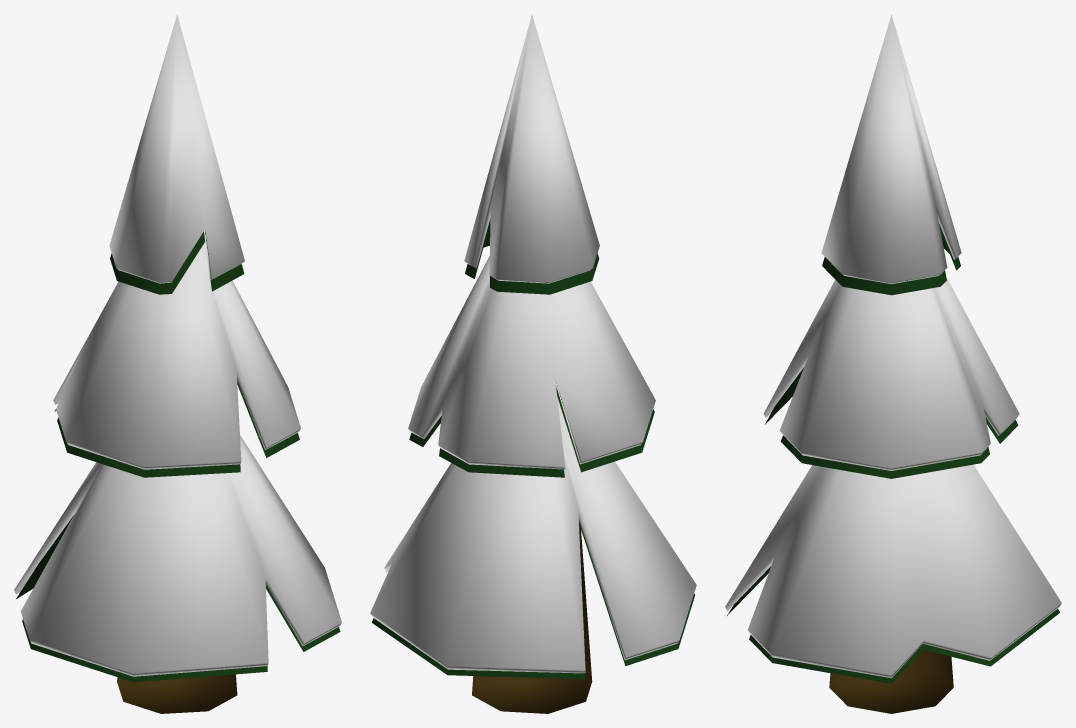
Rendered from pine.glb.
The picture shows the model from 3 angles, left to right: view 1: azimuth 30°, elevation 25°; view 2: azimuth 150°, elevation 25°; view 3: azimuth 270°, elevation 25°; orthographic projection.
Parts seen in each view (by area): view 1: Circle; view 2: Circle; view 3: Circle.
Boxes of the visible parts, x1,y1,x2,y2 form: Circle: (14, 14, 341, 713); Circle: (370, 14, 696, 713); Circle: (725, 14, 1061, 713).
Size of the model in its own units: 5.47 by 11.94 by 5.41.
